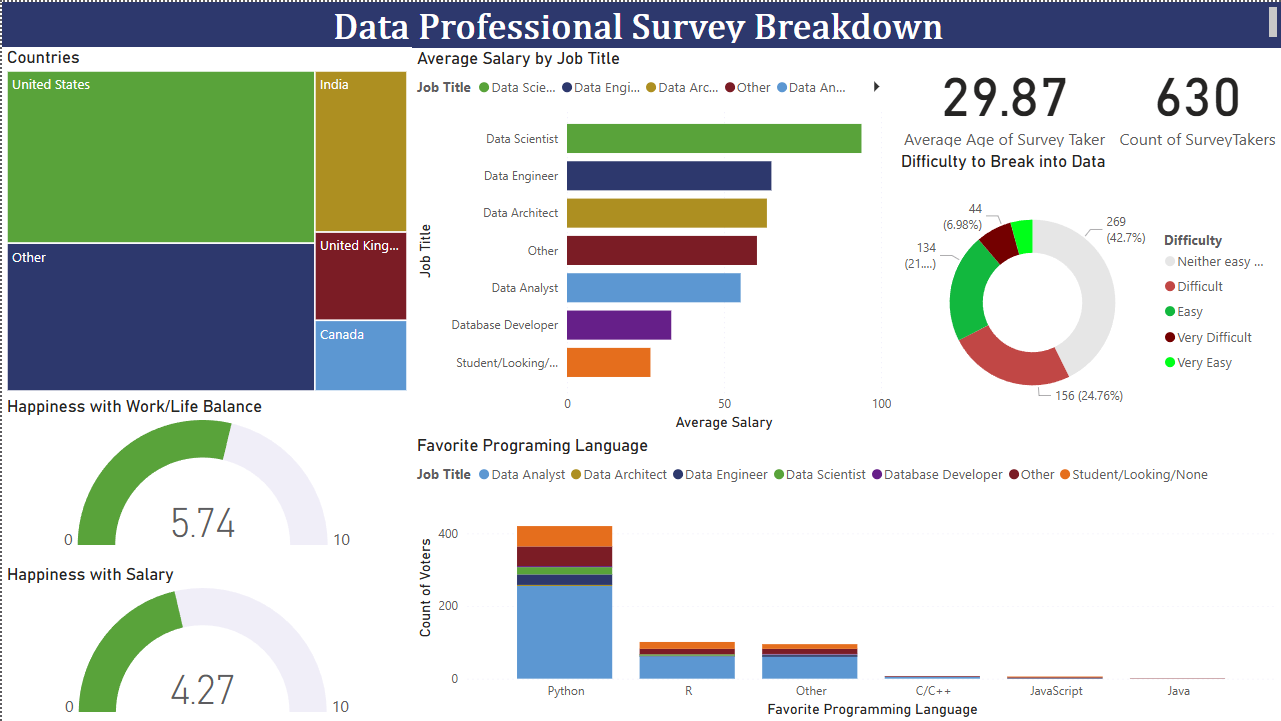

This screenshot's page, from the dashboard's own definition file:
{"tool":"powerbi","page":{"name":"Página 1","canvas":[1280,720],"ordinal":0},"visuals":[{"type":"textbox","box":[0,0,1280,45.7],"z":0},{"type":"card","fields":{"Values":["CountNonNull(Data Professional Survey.Unique ID)"]},"box":[1111.4,45.6,168.6,103.9],"z":1},{"type":"card","fields":{"Values":["Avg(Data Professional Survey.Q10 - Current Age)"]},"box":[894,45.6,217.4,103.9],"z":2},{"type":"barChart","title":"Average Salary by Job Title","fields":{"Category":["Data Professional Survey.Q1 - Which Title Best Fits your Current Role?.1"],"Y":["Avg(Data Professional Survey.Average Salary)"],"Series":["Data Professional Survey.Q1 - Which Title Best Fits your Current Role?.1"]},"box":[410.2,46.3,483.8,387.1],"z":3},{"type":"columnChart","title":"Favorite Programing Language","fields":{"Category":["Data Professional Survey.Q5 - Favorite Programming Language.1"],"Y":["CountNonNull(Data Professional Survey.Unique ID)"],"Series":["Data Professional Survey.Q1 - Which Title Best Fits your Current Role?.1"]},"box":[410.2,433.3,869.8,287.1],"z":4},{"type":"treemap","title":"Countries","fields":{"Group":["Data Professional Survey.Q11 - Which Country do you live in?.1"],"Values":["CountNonNull(Data Professional Survey.Q11 - Which Country do you live in?.1)"]},"box":[0,45.2,410.2,349.2],"z":5},{"type":"gauge","title":"Happiness with Work/Life Balance","fields":{"Y":["Avg(Data Professional Survey.Q6 - How Happy are you in your Current Position with the following? (Work/Life Balance))"],"MinValue":["Min(Data Professional Survey.Q6 - How Happy are you in your Current Position with the following? (Work/Life Balance))1"],"MaxValue":["Max(Data Professional Survey.Q6 - How Happy are you in your Current Position with the following? (Work/Life Balance))2"]},"box":[0,394.4,410.2,158.8],"z":6},{"type":"gauge","title":"Happiness with Salary","fields":{"Y":["Avg(Data Professional Survey.Q6 - How Happy are you in your Current Position with the following? (Salary))"],"MinValue":["Min(Data Professional Survey.Q6 - How Happy are you in your Current Position with the following? (Salary))"],"MaxValue":["Max(Data Professional Survey.Q6 - How Happy are you in your Current Position with the following? (Salary))"]},"box":[0,561.6,410.2,158.8],"z":7},{"type":"donutChart","title":"Difficulty to Break into Data","fields":{"Category":["Data Professional Survey.Q7 - How difficult was it for you to break into Data?"],"Y":["CountNonNull(Data Professional Survey.Q7 - How difficult was it for you to break into Data?)"]},"box":[894,149.4,386,284],"z":8}]}

Visuals, with their boxes in screenshot pixels (x1, y1, x2, y2), scaled from the page's 1280x720 canvas onto the 1281x721 screenshot:
textbox: 0, 0, 1280, 46
card - CountNonNull(Data Professional Survey.Unique ID): 1112, 46, 1280, 150
card - Avg(Data Professional Survey.Q10 - Current Age): 895, 46, 1112, 150
"Average Salary by Job Title" barChart: 411, 46, 895, 434
"Favorite Programing Language" columnChart: 411, 434, 1280, 720
"Countries" treemap: 0, 45, 411, 395
"Happiness with Work/Life Balance" gauge: 0, 395, 411, 554
"Happiness with Salary" gauge: 0, 562, 411, 720
"Difficulty to Break into Data" donutChart: 895, 150, 1280, 434
